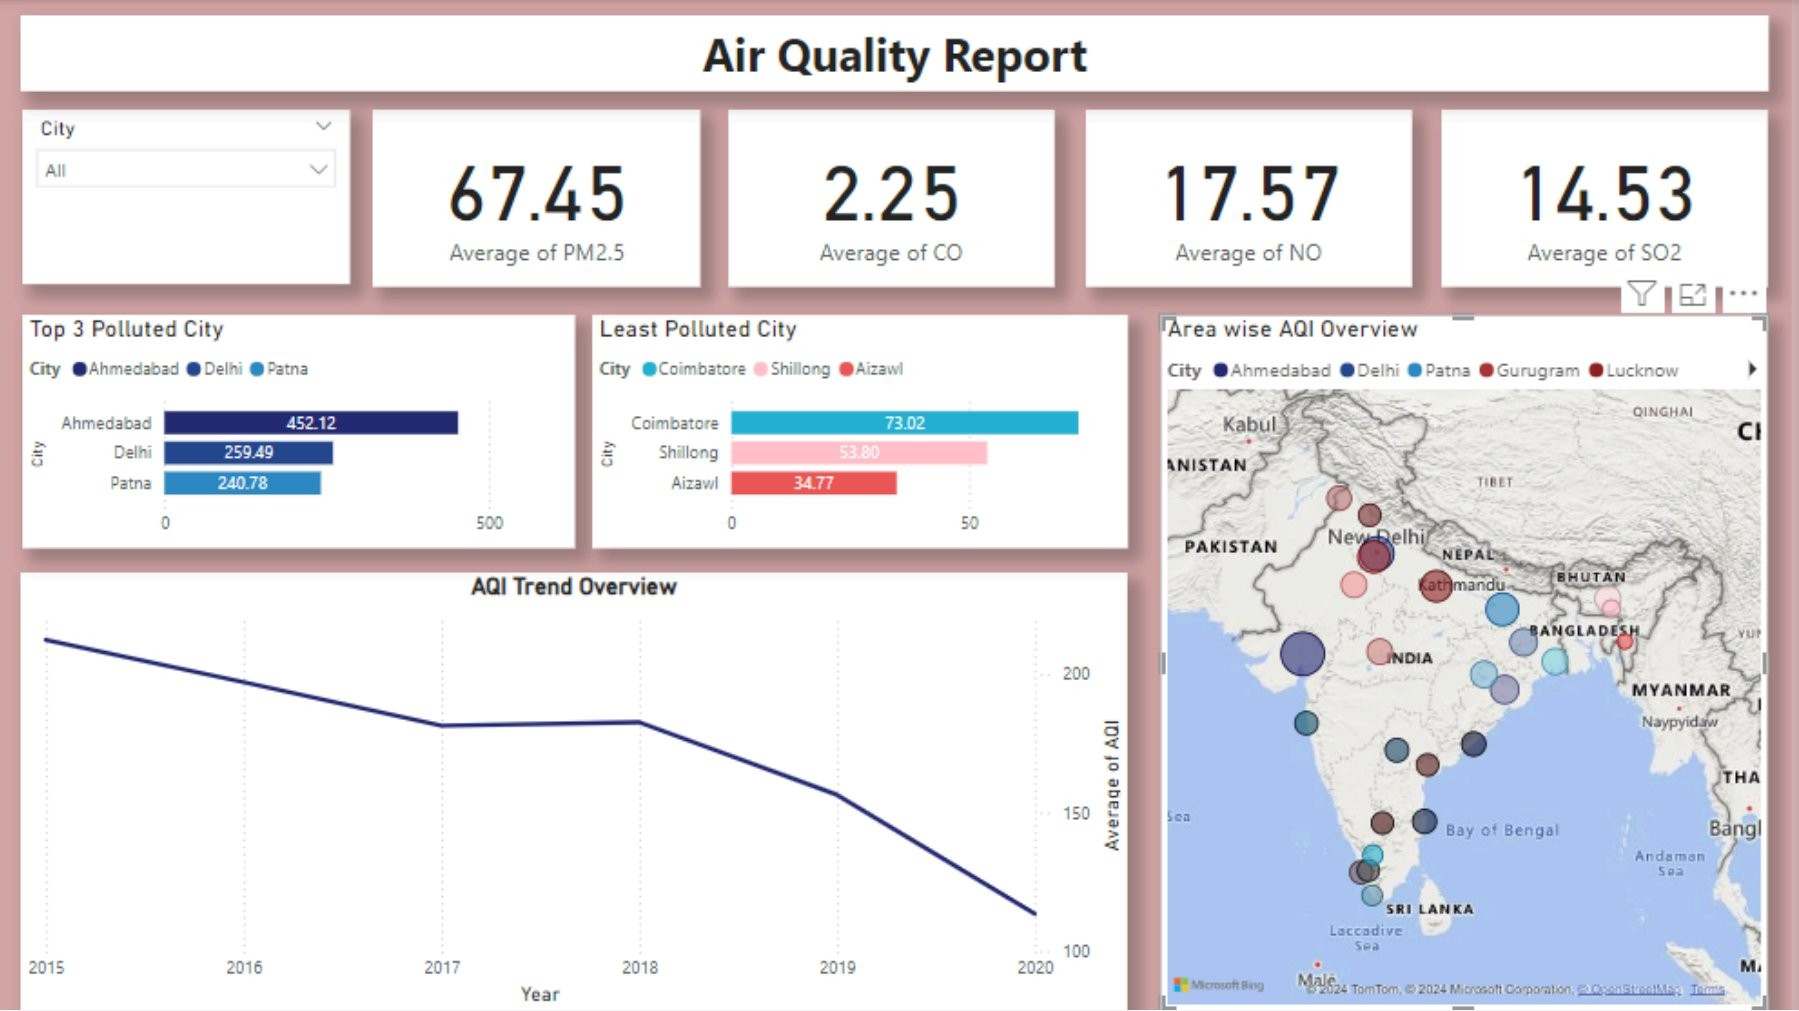

The dashboard page shown, as its layout file describes it:
{"tool":"powerbi","page":{"name":"Page 1","canvas":[1280,720],"ordinal":0},"visuals":[{"type":"lineChart","title":"AQI Trend Overview","fields":{"Category":["city_day.Date.Variation.Date Hierarchy.Year","city_day.Date.Variation.Date Hierarchy.Quarter","city_day.Date.Variation.Date Hierarchy.Month","city_day.Date.Variation.Date Hierarchy.Day"],"Y2":["Avg(city_day.AQI)"]},"box":[20.2,408.2,787.8,312.4],"z":0},{"type":"slicer","fields":{"Values":["city_day.City"]},"box":[21.8,79,233.5,124.3],"z":1000},{"type":"barChart","title":"Top 3 Polluted City","fields":{"Category":["city_day.City"],"Y":["Avg(city_day.AQI)"],"Series":["city_day.City"]},"box":[21.8,225.1,393.1,166.3],"z":2000},{"type":"barChart","title":"Least Polluted City","fields":{"Category":["city_day.City"],"Y":["Avg(city_day.AQI)"],"Series":["city_day.City"]},"box":[426.7,225.1,381.3,166.3],"z":2001},{"type":"card","fields":{"Values":["Avg(city_day.CO)"]},"box":[524.1,79,231.8,126],"z":2002},{"type":"card","fields":{"Values":["Avg(city_day.NO)"]},"box":[777.7,79,231.8,126],"z":2003},{"type":"card","fields":{"Values":["Avg(city_day.PM2.5)"]},"box":[270.4,79,233.5,126],"z":2004},{"type":"card","fields":{"Values":["Avg(city_day.SO2)"]},"box":[1031.4,79,231.8,126],"z":2005},{"type":"map","title":"Area wise AQI Overview","fields":{"Category":["city_day.City"],"Size":["Avg(city_day.AQI)"],"Series":["city_day.City"]},"box":[831.5,225.1,431.7,495.5],"z":2006},{"type":"textbox","box":[20.2,11.8,1243,53.8],"z":2007}]}

Visuals, with their boxes in screenshot pixels (x1, y1, x2, y2), scaled from the page's 1280x720 canvas onto the 1799x1011 screenshot:
"AQI Trend Overview" lineChart: pyautogui.locateOnScreen(28, 573, 1136, 1010)
slicer - city_day.City: pyautogui.locateOnScreen(31, 111, 359, 285)
"Top 3 Polluted City" barChart: pyautogui.locateOnScreen(31, 316, 583, 550)
"Least Polluted City" barChart: pyautogui.locateOnScreen(600, 316, 1136, 550)
card - Avg(city_day.CO): pyautogui.locateOnScreen(737, 111, 1062, 288)
card - Avg(city_day.NO): pyautogui.locateOnScreen(1093, 111, 1419, 288)
card - Avg(city_day.PM2.5): pyautogui.locateOnScreen(380, 111, 708, 288)
card - Avg(city_day.SO2): pyautogui.locateOnScreen(1450, 111, 1775, 288)
"Area wise AQI Overview" map: pyautogui.locateOnScreen(1169, 316, 1775, 1010)
textbox: pyautogui.locateOnScreen(28, 17, 1775, 92)
